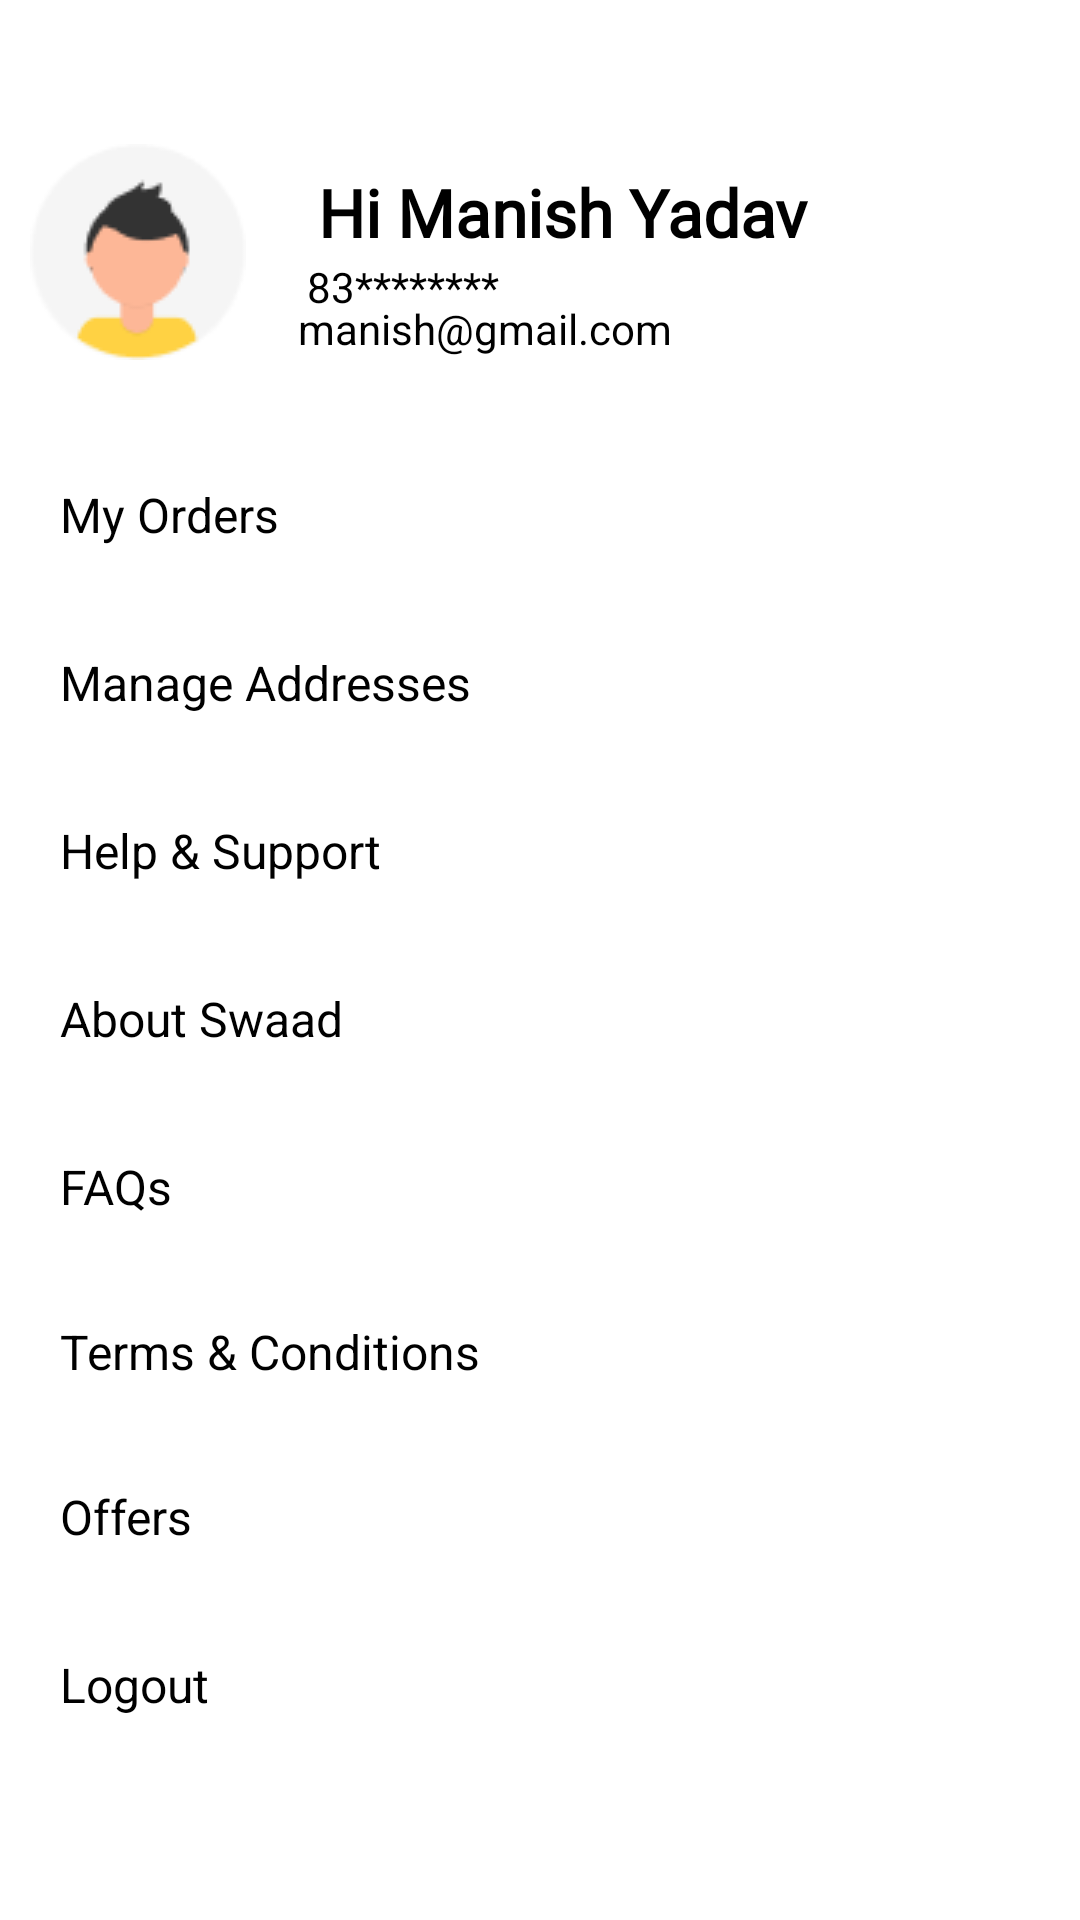

Where icons sit on this 1080px×1920px app screen, as bbox=[x1, y1, x2, y2]:
account: bbox=[77, 180, 198, 360]
